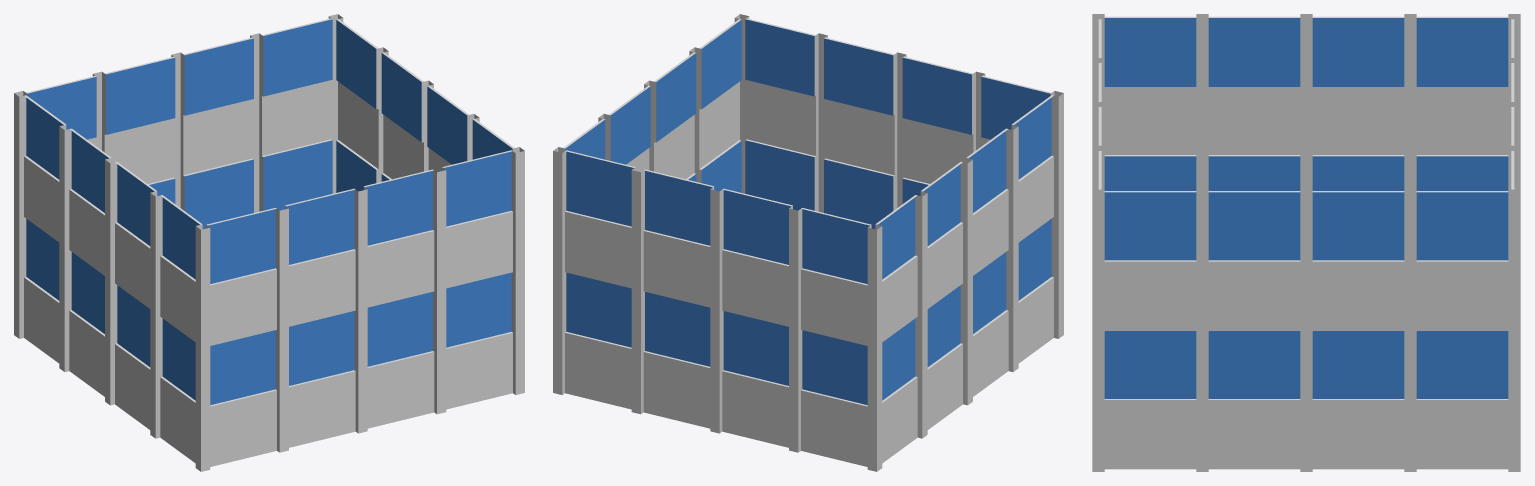
File: 07b_mid.fbx
The picture shows the model from 3 angles, left to right: view 1: azimuth 30°, elevation 25°; view 2: azimuth 150°, elevation 25°; view 3: azimuth 270°, elevation 25°; orthographic projection. The views are drawn at different scales.
Visible parts, largest first — view 1: 00b_Mid; view 2: 00b_Mid; view 3: 00b_Mid.
Part boxes in pixels (x1,y1,x2,y2): 00b_Mid: (14, 14, 524, 471); 00b_Mid: (553, 14, 1063, 471); 00b_Mid: (1092, 14, 1520, 471).
Size of the model in its own units: 35 by 25 by 35.
